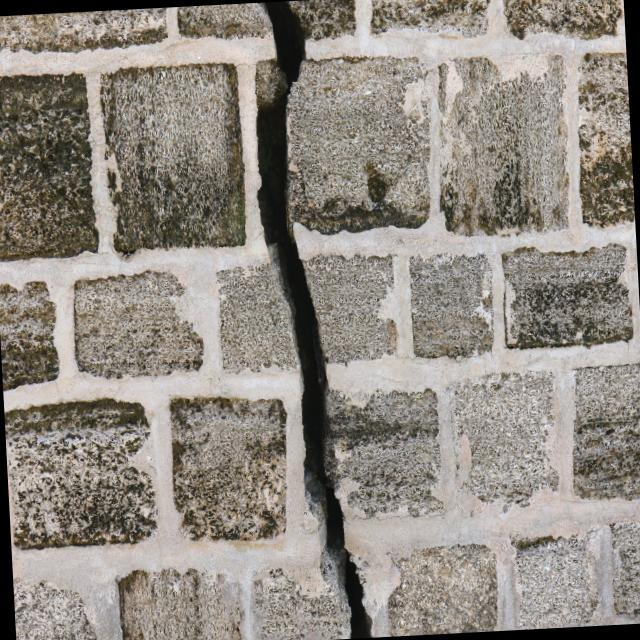crack: (243, 0, 373, 640)
